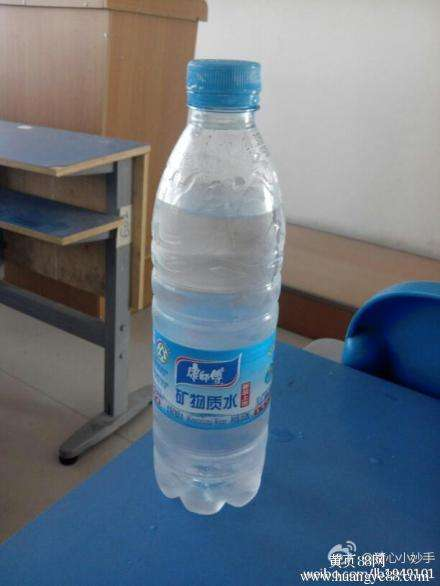amwater: (140, 45, 300, 528)
